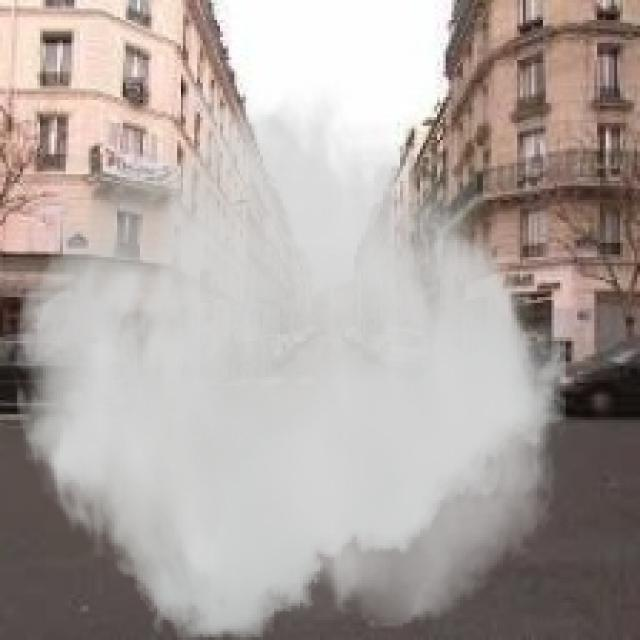Smoke: (9, 72, 568, 638)
